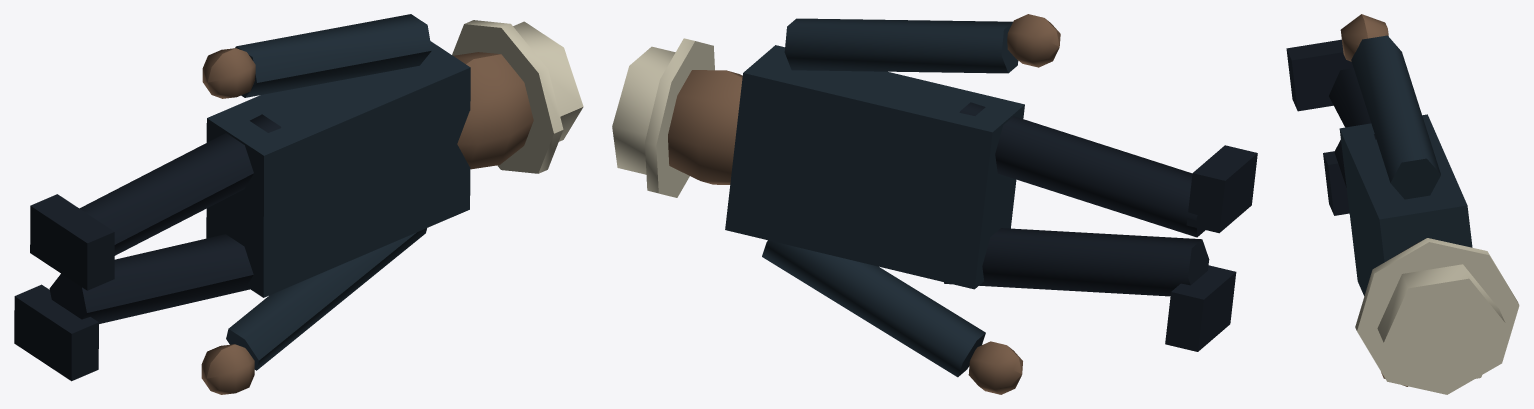
The model's file is overboard-crew.glb.
3 views of the same model, side by side, from view 1: azimuth 30°, elevation 25°; view 2: azimuth 150°, elevation 25°; view 3: azimuth 270°, elevation 25° (orthographic). The views are drawn at different scales.
Visible parts, largest first — view 1: CrewCoat, CrewTrouserRight, CrewTrouserLeft, CrewSleeveLeft, CrewSleeveRight, CrewHead, CrewHatBrim, CrewBootLeft, CrewBootRight, CrewHat, CrewHandRight, CrewHandLeft; view 2: CrewCoat, CrewTrouserRight, CrewTrouserLeft, CrewSleeveLeft, CrewSleeveRight, CrewHead, CrewBootLeft, CrewHatBrim, CrewBootRight, CrewHat, CrewHandRight, CrewHandLeft; view 3: CrewHat, CrewCoat, CrewSleeveLeft, CrewHatBrim, CrewBootLeft, CrewTrouserLeft, CrewHandLeft, CrewBootRight, CrewTrouserRight.
Boxes of the visible parts, x1=… form: CrewCoat: x1=206, y1=41, x2=470, y2=297; CrewTrouserRight: x1=49, y1=234, x2=253, y2=323; CrewTrouserLeft: x1=79, y1=114, x2=281, y2=255; CrewSleeveLeft: x1=235, y1=14, x2=431, y2=97; CrewSleeveRight: x1=226, y1=228, x2=426, y2=370; CrewHead: x1=453, y1=52, x2=533, y2=169; CrewHatBrim: x1=452, y1=20, x2=563, y2=173; CrewBootLeft: x1=30, y1=194, x2=114, y2=290; CrewBootRight: x1=14, y1=284, x2=98, y2=381; CrewHat: x1=513, y1=21, x2=583, y2=141; CrewHandRight: x1=201, y1=344, x2=254, y2=394; CrewHandLeft: x1=202, y1=48, x2=255, y2=98; CrewCoat: x1=725, y1=45, x2=1024, y2=289; CrewTrouserRight: x1=944, y1=228, x2=1209, y2=296; CrewTrouserLeft: x1=959, y1=102, x2=1205, y2=237; CrewSleeveLeft: x1=784, y1=18, x2=1018, y2=73; CrewSleeveRight: x1=762, y1=240, x2=985, y2=377; CrewHead: x1=668, y1=70, x2=742, y2=184; CrewBootLeft: x1=1186, y1=145, x2=1257, y2=233; CrewHatBrim: x1=645, y1=38, x2=714, y2=197; CrewBootRight: x1=1165, y1=265, x2=1236, y2=351; CrewHat: x1=612, y1=46, x2=675, y2=174; CrewHandRight: x1=968, y1=341, x2=1022, y2=394; CrewHandLeft: x1=1007, y1=14, x2=1060, y2=67; CrewHat: x1=1377, y1=264, x2=1505, y2=387; CrewCoat: x1=1339, y1=114, x2=1472, y2=295; CrewSleeveLeft: x1=1351, y1=35, x2=1440, y2=199; CrewHatBrim: x1=1355, y1=238, x2=1519, y2=394; CrewBootLeft: x1=1286, y1=39, x2=1353, y2=111; CrewTrouserLeft: x1=1329, y1=68, x2=1376, y2=139; CrewHandLeft: x1=1340, y1=14, x2=1388, y2=61; CrewBootRight: x1=1323, y1=151, x2=1349, y2=215; CrewTrouserRight: x1=1334, y1=139, x2=1346, y2=187.
Bounding box in the file's own units: 1.68 × 1.05 × 0.6162.
